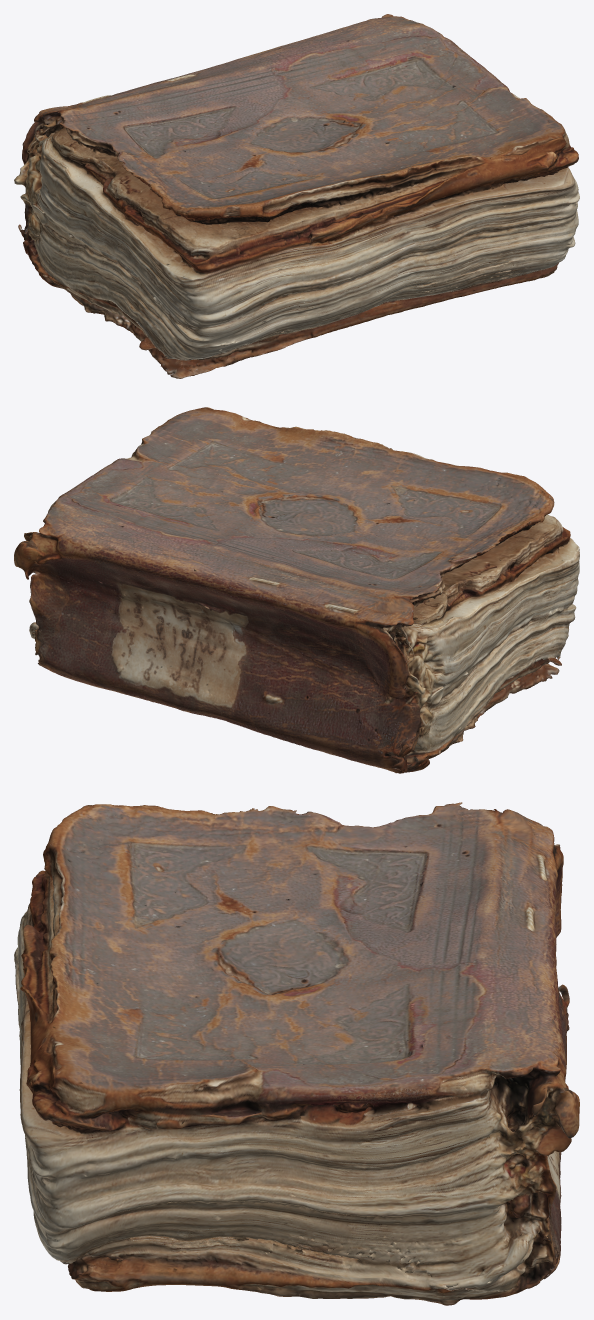
File: book.glb
The picture shows the model from 3 angles, top to bottom: view 1: azimuth 30°, elevation 25°; view 2: azimuth 150°, elevation 25°; view 3: azimuth 270°, elevation 25°; orthographic projection. The views are drawn at different scales.
Visible parts, largest first — view 1: Model; view 2: Model; view 3: Model.
Boxes of the visible parts, <box> form: Model: <box>14,14,579,378</box>; Model: <box>14,407,579,773</box>; Model: <box>14,802,579,1305</box>.
Size of the model in its own units: 193 by 78.7 by 153.
1 material, 1 textured.
